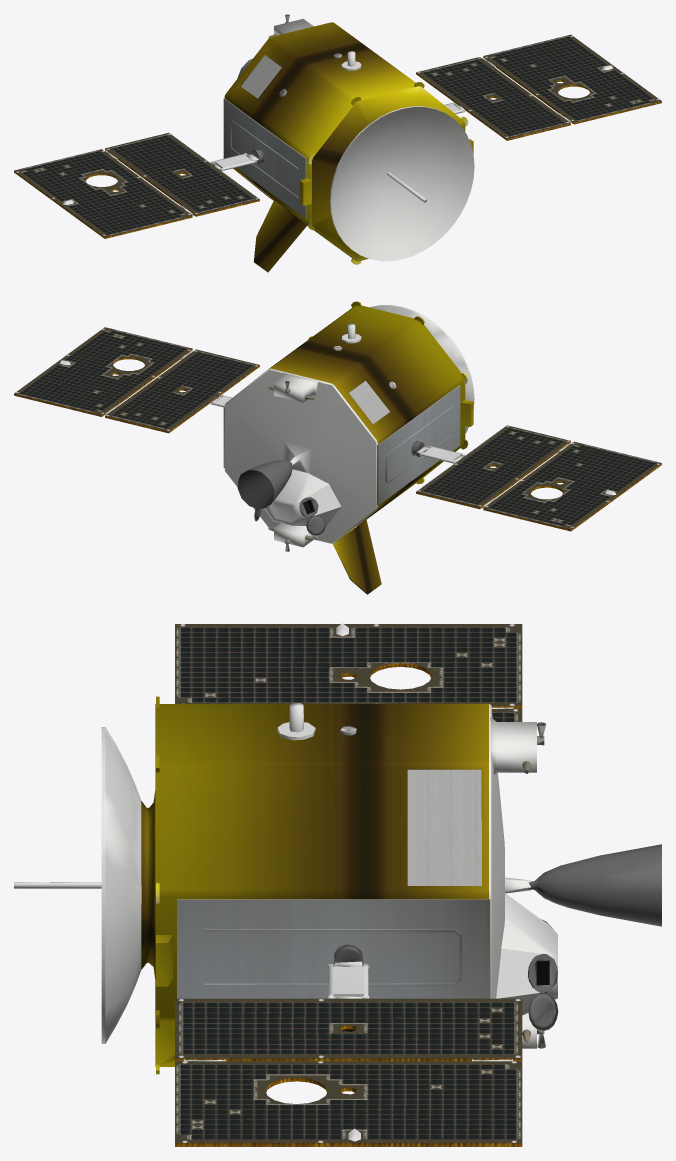
Rendered from clementine_lod1.glb.
The picture shows the model from 3 angles, top to bottom: view 1: azimuth 30°, elevation 25°; view 2: azimuth 150°, elevation 25°; view 3: azimuth 270°, elevation 25°; orthographic projection. The views are drawn at different scales.
Visible parts, largest first — view 1: clementine_lod1; view 2: clementine_lod1; view 3: clementine_lod1.
Part boxes in pixels (<box>): clementine_lod1: <box>14,14,661,272</box>; clementine_lod1: <box>14,301,661,594</box>; clementine_lod1: <box>14,623,661,1146</box>.
Bounding box in the file's own units: 3.79 × 1.47 × 2.
7 materials, 3 textured.
